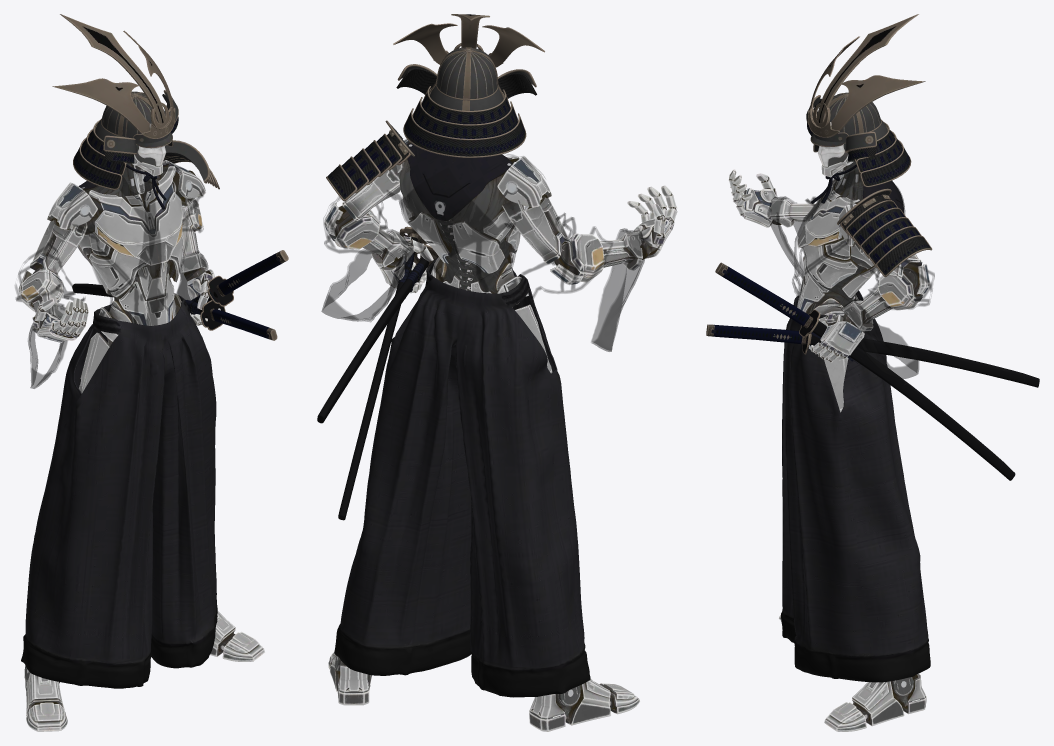
File: cyber_samurai.optimized.glb
3 renders of one model, left to right at view 1: azimuth 30°, elevation 25°; view 2: azimuth 150°, elevation 25°; view 3: azimuth 270°, elevation 25°, orthographic. The views are drawn at different scales.
Parts seen in each view (by area): view 1: Object_2, Object_5, Object_17, Object_3, Object_13, Object_16, Object_19, Object_18, Object_7, Object_15, Object_14; view 2: Object_2, Object_17, Object_3, Object_5, Object_16, Object_13, Object_19, Object_18, Object_14, Object_6; view 3: Object_2, Object_17, Object_19, Object_5, Object_3, Object_16, Object_13, Object_18, Object_7, Object_15, Object_14.
Part boxes in pixels (bbox=[...]): Object_2: bbox=[21, 295, 217, 688]; Object_5: bbox=[55, 163, 195, 345]; Object_17: bbox=[52, 14, 178, 189]; Object_3: bbox=[15, 167, 208, 388]; Object_13: bbox=[18, 160, 264, 731]; Object_16: bbox=[21, 196, 214, 683]; Object_19: bbox=[72, 250, 288, 340]; Object_18: bbox=[126, 140, 219, 209]; Object_7: bbox=[99, 146, 181, 341]; Object_15: bbox=[55, 332, 110, 393]; Object_14: bbox=[32, 264, 212, 328]; Object_2: bbox=[334, 257, 590, 697]; Object_17: bbox=[393, 14, 544, 157]; Object_3: bbox=[321, 154, 646, 351]; Object_5: bbox=[399, 143, 524, 307]; Object_16: bbox=[328, 165, 671, 718]; Object_13: bbox=[324, 139, 672, 731]; Object_19: bbox=[317, 226, 438, 520]; Object_18: bbox=[326, 120, 414, 201]; Object_14: bbox=[335, 204, 666, 274]; Object_6: bbox=[439, 217, 475, 290]; Object_2: bbox=[781, 290, 930, 682]; Object_17: bbox=[806, 14, 925, 187]; Object_19: bbox=[706, 262, 1039, 480]; Object_5: bbox=[797, 161, 903, 314]; Object_3: bbox=[767, 170, 934, 378]; Object_16: bbox=[743, 198, 923, 706]; Object_13: bbox=[743, 171, 930, 731]; Object_18: bbox=[811, 164, 932, 277]; Object_7: bbox=[817, 144, 858, 315]; Object_15: bbox=[743, 214, 848, 412]; Object_14: bbox=[756, 173, 919, 326].
Bounding box in the file's own units: 1.04 × 2.43 × 1.15.
Materials: 5 (5 with a texture image).
